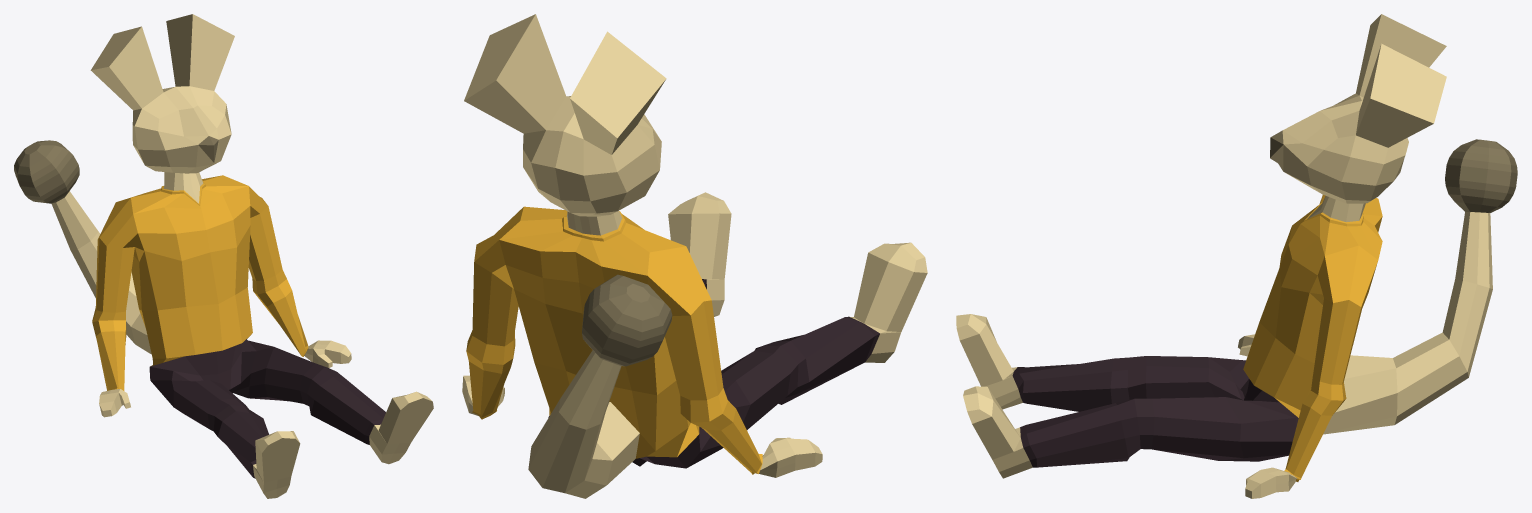
File: Bringeroo_Plush.fbx
3 views of the same model, side by side, from view 1: azimuth 30°, elevation 25°; view 2: azimuth 150°, elevation 25°; view 3: azimuth 270°, elevation 25° (orthographic). The views are drawn at different scales.
Visible parts, largest first — view 1: Cube; view 2: Cube; view 3: Cube.
Boxes of the visible parts, x1,y1,x2,y2 form: Cube: (14,14,433,498); Cube: (462,14,927,498); Cube: (956,14,1517,498).
Bounding box in the file's own units: 96.04 × 128 × 156.
